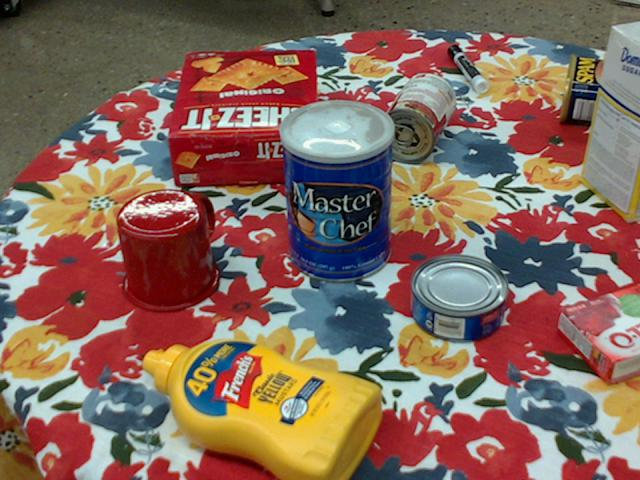cracker_box: (168, 49, 320, 183)
gelatin_box: (558, 284, 639, 383)
large_marker: (449, 43, 488, 91)
master_chef_can: (278, 99, 393, 282)
mug: (115, 188, 220, 312)
mustard_bottle: (143, 338, 384, 479)
potted_meat_can: (558, 51, 639, 126)
sugar_box: (579, 22, 639, 223)
tomato_soup_can: (377, 71, 455, 162)
tuna_fish_can: (411, 254, 509, 343)
